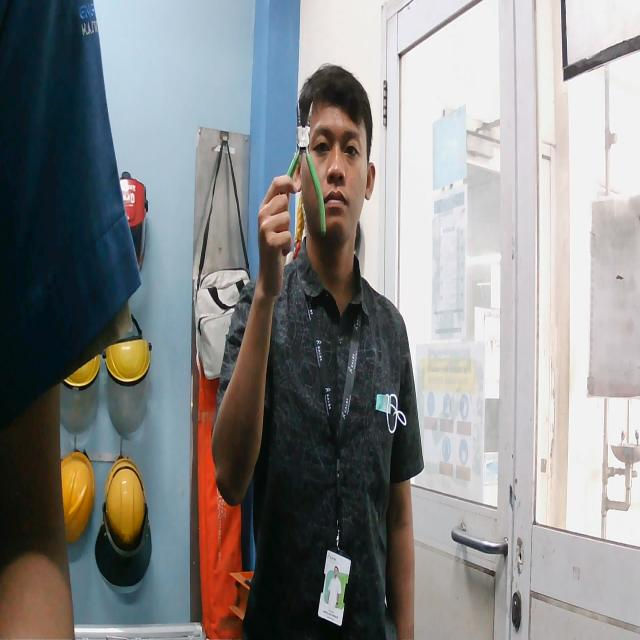tang_scun_hidrolik: (266, 94, 329, 241)
